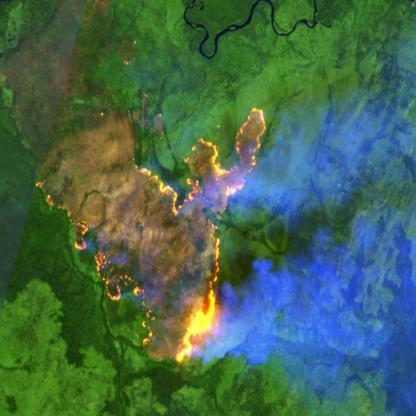fire: (32, 103, 268, 369)
